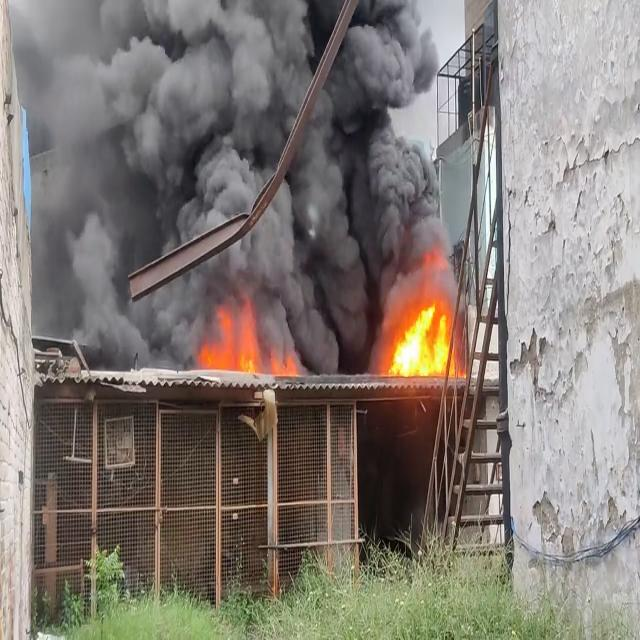Fire: (370, 246, 470, 384), (195, 288, 302, 376)
Smoke: (14, 0, 456, 378)
